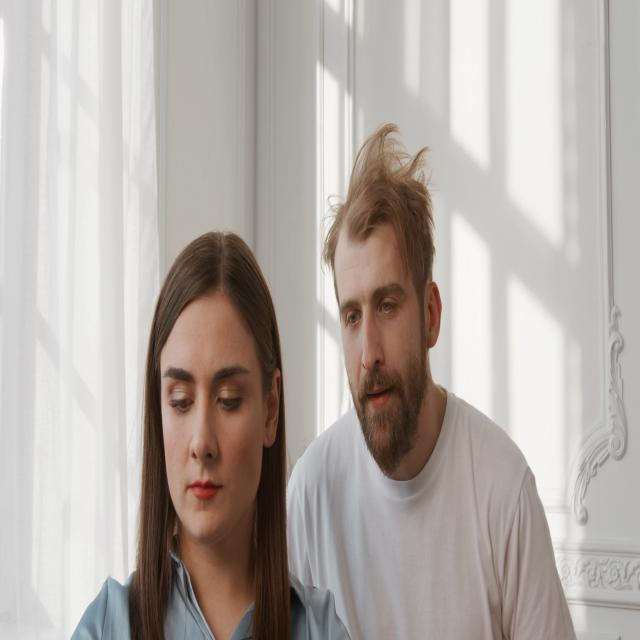confused: (325, 148, 446, 488)
sad: (152, 268, 282, 548)
